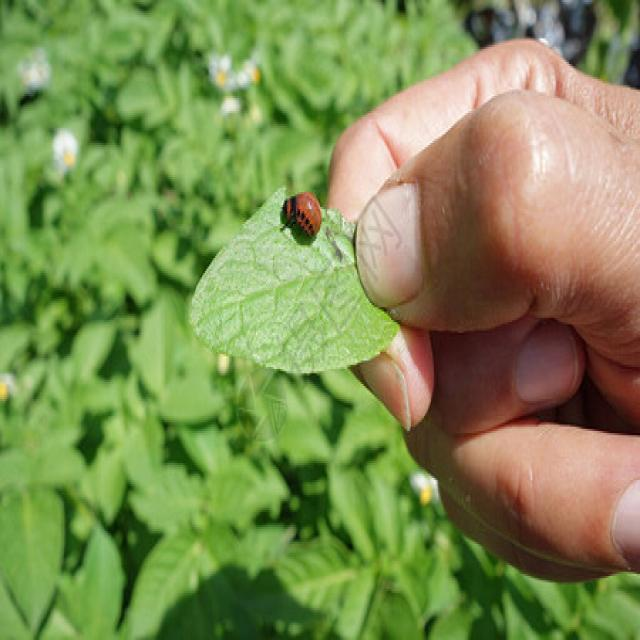ShuCaiHuaBanChong-Larva-: (282, 184, 326, 250)
